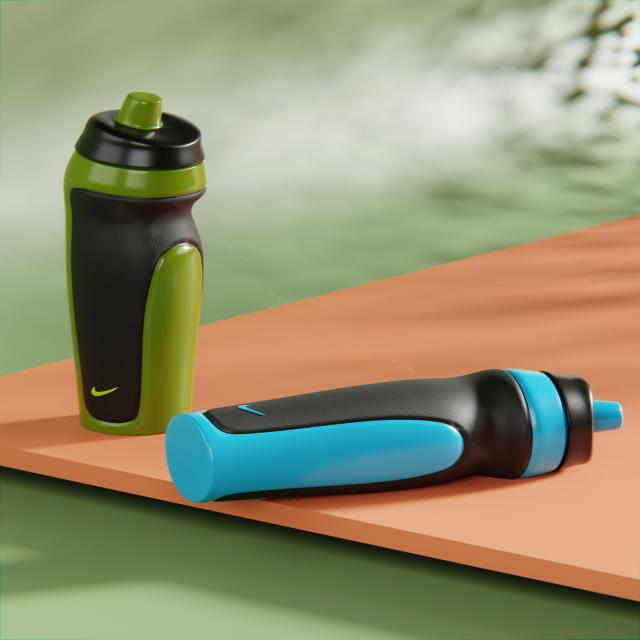Bottle: (166, 370, 622, 502), (65, 93, 205, 434)
